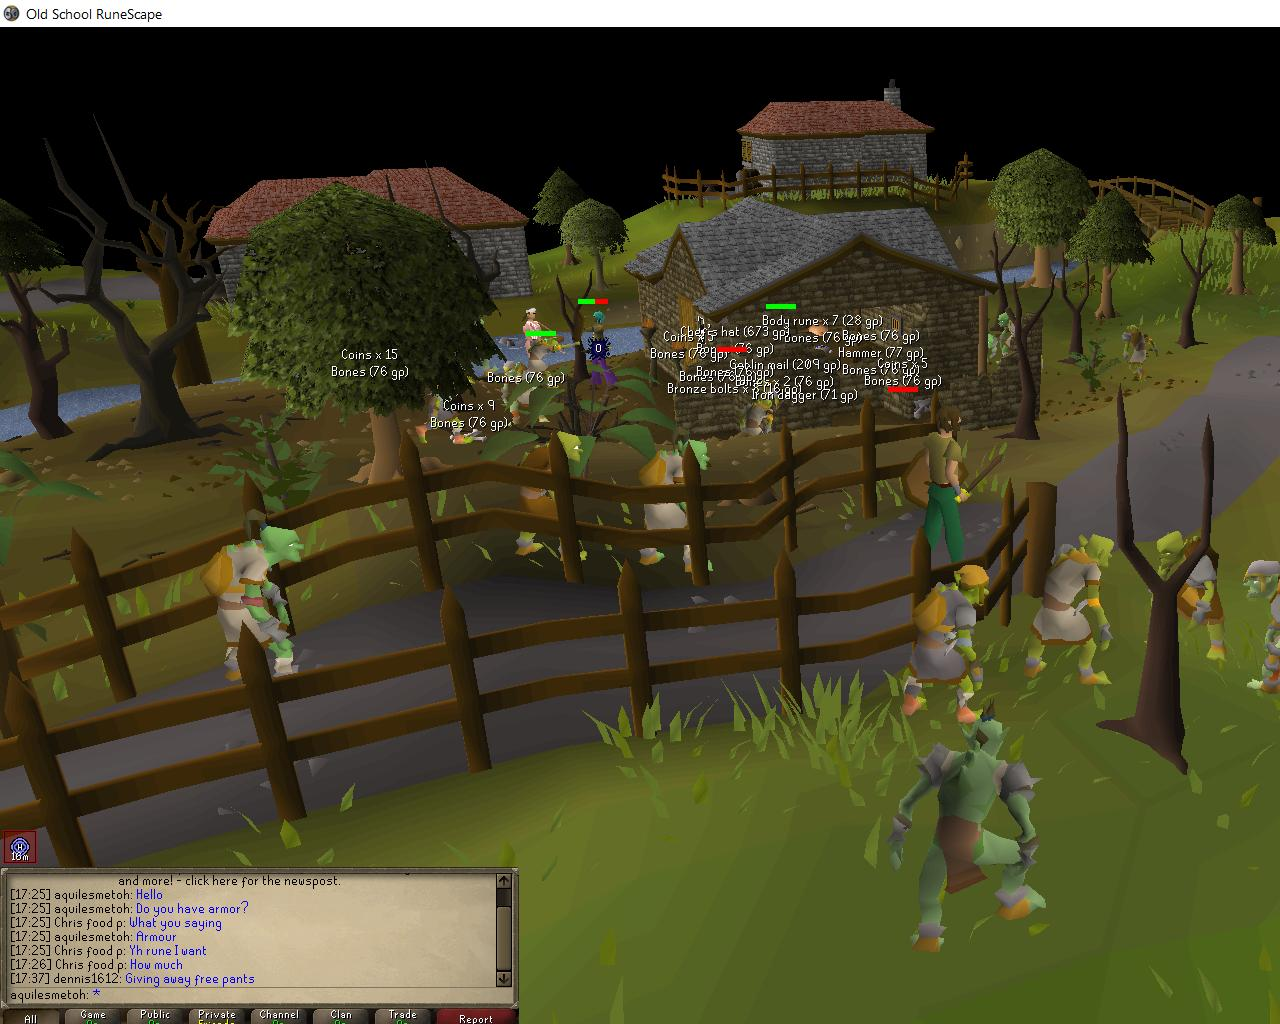Goblin: (881, 704, 1060, 955), (199, 508, 309, 686), (895, 553, 999, 725), (1015, 528, 1124, 686), (1147, 530, 1237, 669), (635, 432, 718, 581), (509, 426, 594, 568), (1241, 559, 1280, 712), (415, 369, 483, 450), (496, 359, 553, 427), (523, 338, 581, 388), (1116, 324, 1162, 377), (995, 312, 1038, 369), (738, 401, 779, 439), (982, 332, 1002, 366)
